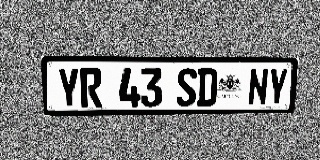3: (141, 68, 162, 107)
4: (119, 68, 140, 107)
D: (196, 68, 218, 106)
N: (247, 68, 269, 106)
R: (80, 68, 102, 108)
S: (176, 68, 197, 107)
Y: (56, 68, 80, 108), (267, 68, 288, 105)
